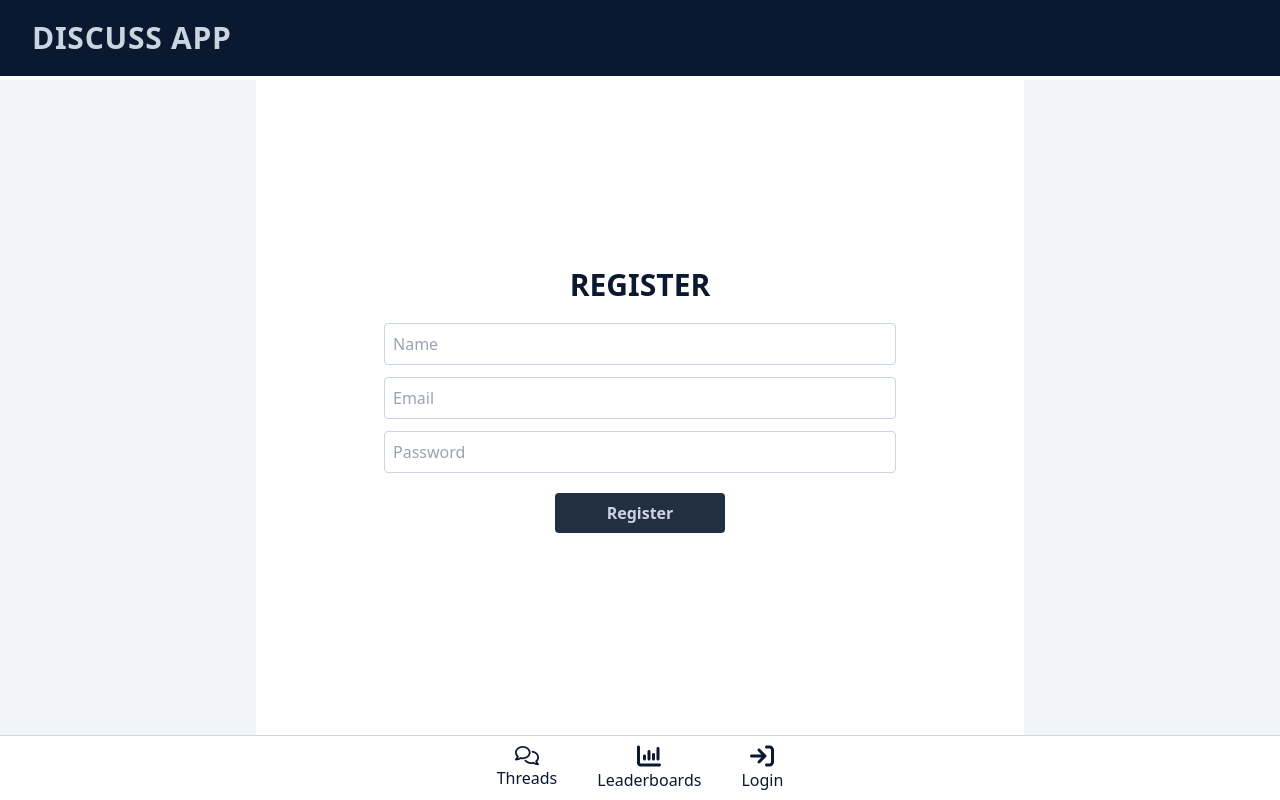
Scenario: Register spec › should display invalid elemen when input email no match with pattern
The width and height of the screenshot is (1280, 800).
Type "email" into the field with placeholder "Email".
click(640, 398); type("email")  # box 384,377 -> 896,419
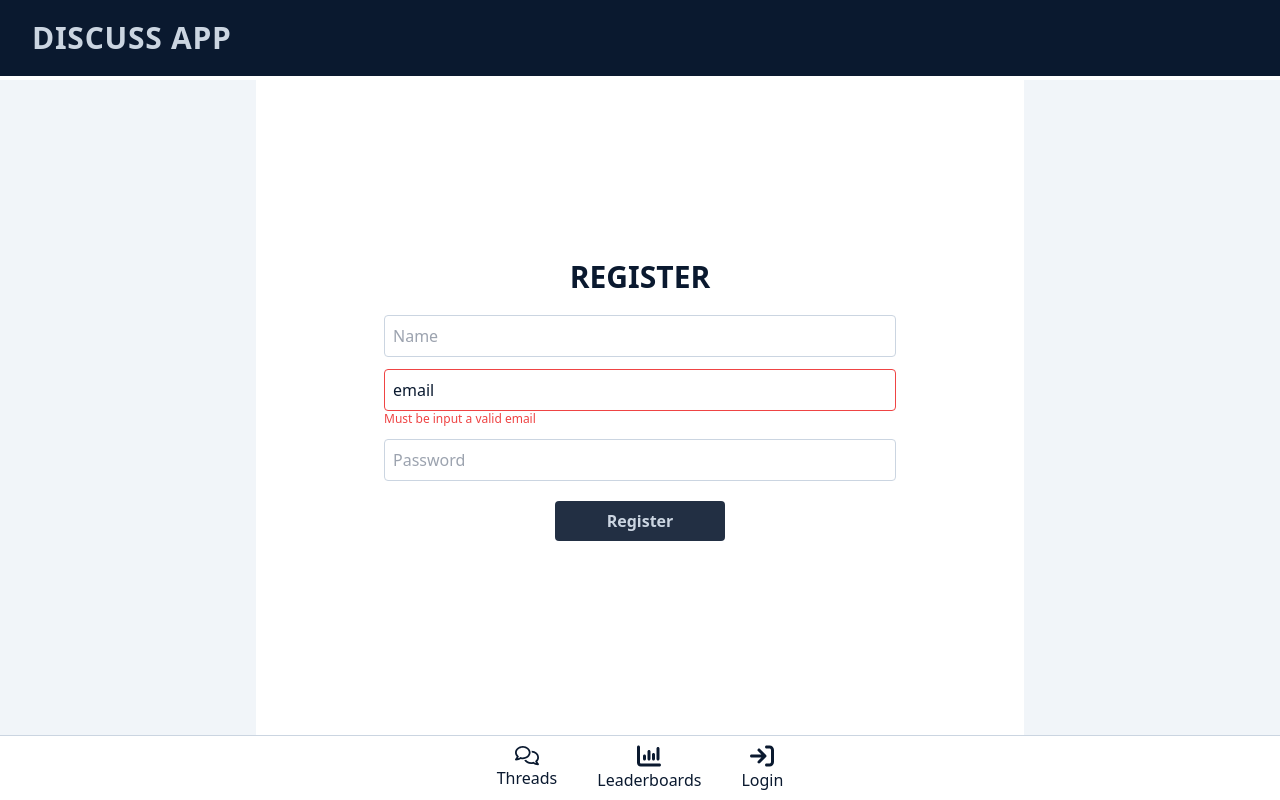
Expected: the text "Must be input a valid email" is shown, 384,410 -> 536,427
